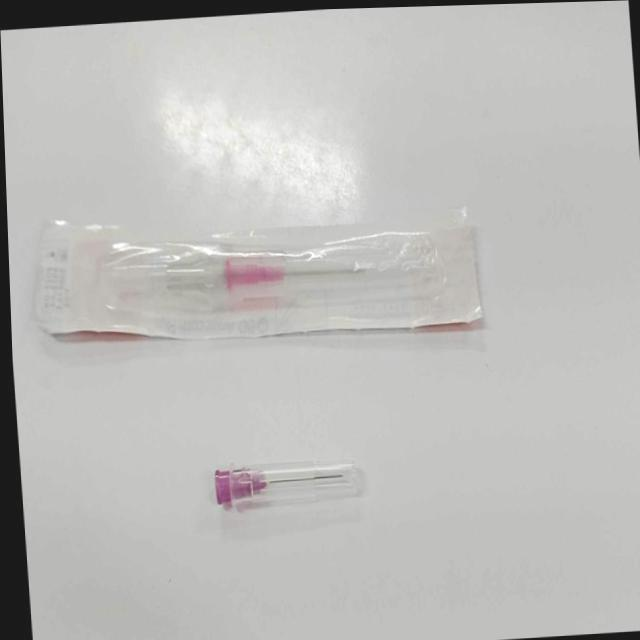General: (33, 207, 487, 342)
Sharps: (214, 460, 367, 508)
